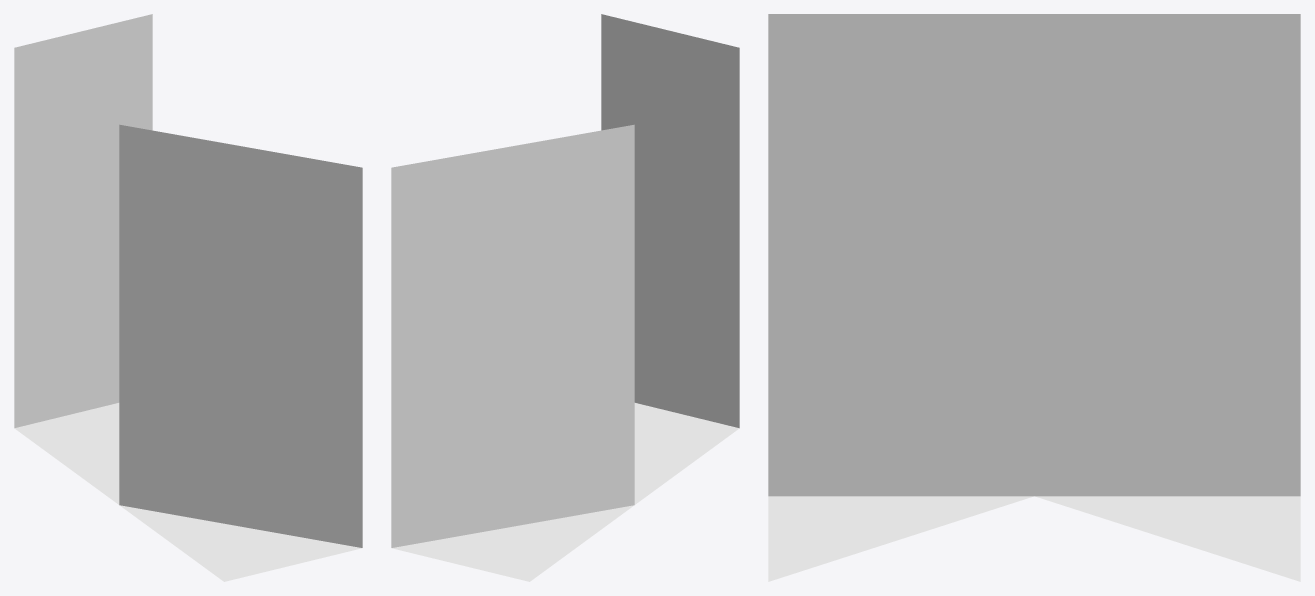
File: r3c7_border_white.gltf
The picture shows the model from 3 angles, left to right: view 1: azimuth 30°, elevation 25°; view 2: azimuth 150°, elevation 25°; view 3: azimuth 270°, elevation 25°; orthographic projection. The views are drawn at different scales.
Visible parts, largest first — view 1: r3c7_border_white; view 2: r3c7_border_white; view 3: r3c7_border_white.
Boxes of the visible parts, box(x1,y1,x2,y2) form: r3c7_border_white: box(14, 14, 362, 581); r3c7_border_white: box(391, 14, 739, 581); r3c7_border_white: box(768, 14, 1300, 581).
Size of the model in its own units: 0.8 by 2.1 by 2.1.
Materials: 1 (1 with a texture image).
